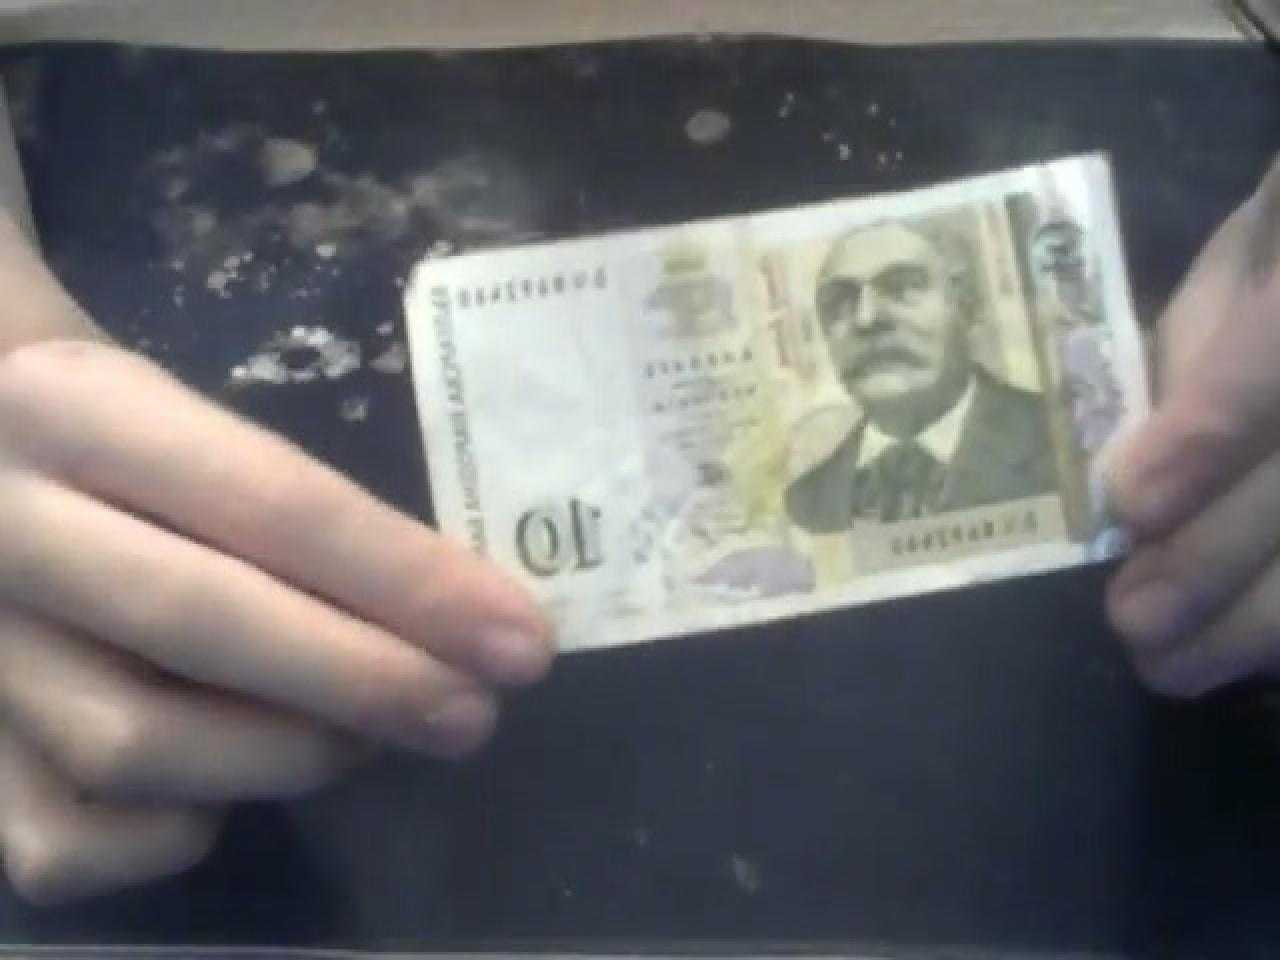10leva: (775, 214, 1077, 538), (502, 475, 629, 591), (1039, 201, 1107, 317)
